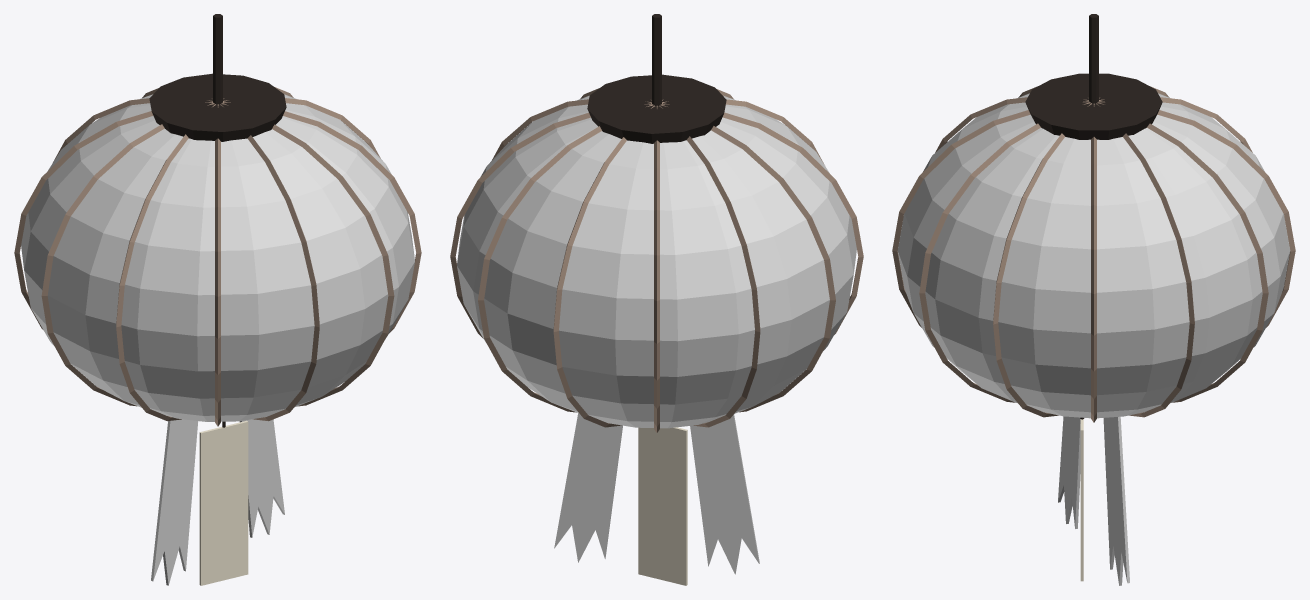
Rendered from temple-paper-lantern.glb.
The picture shows the model from 3 angles, left to right: view 1: azimuth 30°, elevation 25°; view 2: azimuth 150°, elevation 25°; view 3: azimuth 270°, elevation 25°; orthographic projection. The views are drawn at different scales.
Visible parts, largest first — view 1: glowPaper21, tag10, rim4, glowPaper27_mx, glowPaper27, glowRib2_6, glowRib2_1, glowRib2_5, glowRib2_2, glowRib2_4, glowRib2_3, rim0; view 2: glowPaper21, tag10, rim4, glowPaper27_mx, glowPaper27, glowRib2_2, glowRib2_1, glowRib2_3, glowRib2_4, glowRib2_6, glowRib2_5, rim0; view 3: glowPaper21, rim4, glowRib2_4, glowPaper27, glowRib2_3, glowRib2_5, glowPaper27_mx, glowRib2_2, glowRib2_6, glowRib2_1, rim0, tag10.
Part boxes in pixels (box(x1,y1,x2,y2)): glowPaper21: box(21, 94, 414, 421); tag10: box(199, 420, 248, 585); rim4: box(149, 73, 286, 141); glowPaper27_mx: box(151, 419, 198, 585); glowPaper27: box(239, 419, 284, 537); glowRib2_6: box(14, 102, 421, 333); glowRib2_1: box(41, 98, 380, 406); glowRib2_5: box(53, 98, 394, 406); glowRib2_2: box(116, 87, 293, 421); glowRib2_4: box(142, 88, 319, 421); glowRib2_3: box(215, 104, 220, 426); rim0: box(213, 14, 222, 104); glowPaper21: box(457, 95, 856, 428); tag10: box(638, 427, 687, 585); rim4: box(587, 74, 726, 143); glowPaper27_mx: box(690, 414, 759, 574); glowPaper27: box(554, 413, 622, 562); glowRib2_2: box(450, 103, 863, 338); glowRib2_1: box(492, 99, 835, 412); glowRib2_3: box(478, 99, 824, 412); glowRib2_4: box(553, 89, 733, 427); glowRib2_6: box(580, 88, 760, 427); glowRib2_5: box(654, 105, 659, 432); rim0: box(652, 14, 661, 105); glowPaper21: box(897, 93, 1290, 418); rim4: box(1025, 73, 1162, 139); glowRib2_4: box(892, 101, 1295, 327); glowPaper27: box(1103, 416, 1129, 585); glowRib2_3: box(935, 97, 1268, 402); glowRib2_5: box(919, 97, 1252, 402); glowPaper27_mx: box(1058, 416, 1080, 528); glowRib2_2: box(1018, 86, 1194, 417); glowRib2_6: box(993, 86, 1169, 417); glowRib2_1: box(1091, 103, 1096, 422); rim0: box(1089, 14, 1098, 103); tag10: box(1080, 419, 1083, 581).
Bounding box in the file's own units: 0.411 × 0.623 × 0.411.
